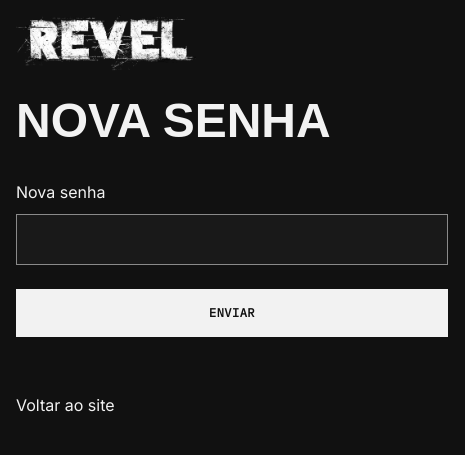
Test case: submits a token and new password once
Type "A-strong-password!2026" into the password field labelled "Nova senha".
click(232, 239); type("A-strong-password!2026")  # box [16,214,448,265]
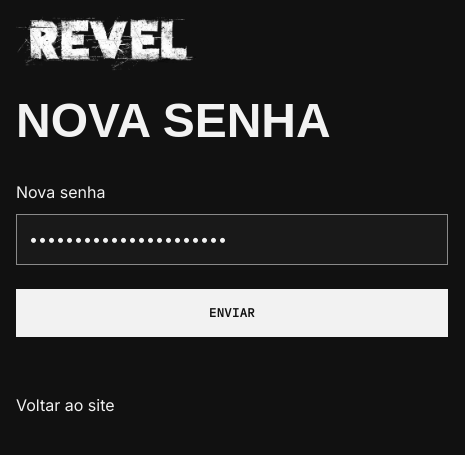
Submit the form labelled "Nova senha", box [16,180,448,361]
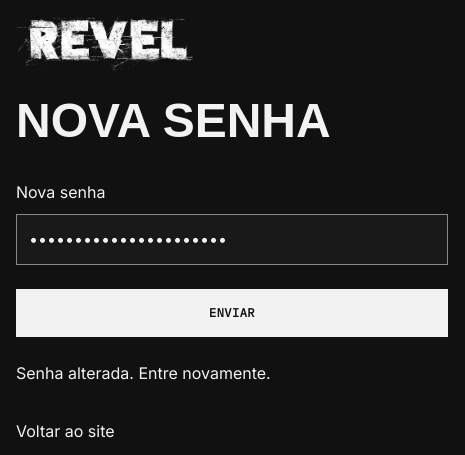
Result: the message shows "Senha alterada" at [16,363,271,383]
